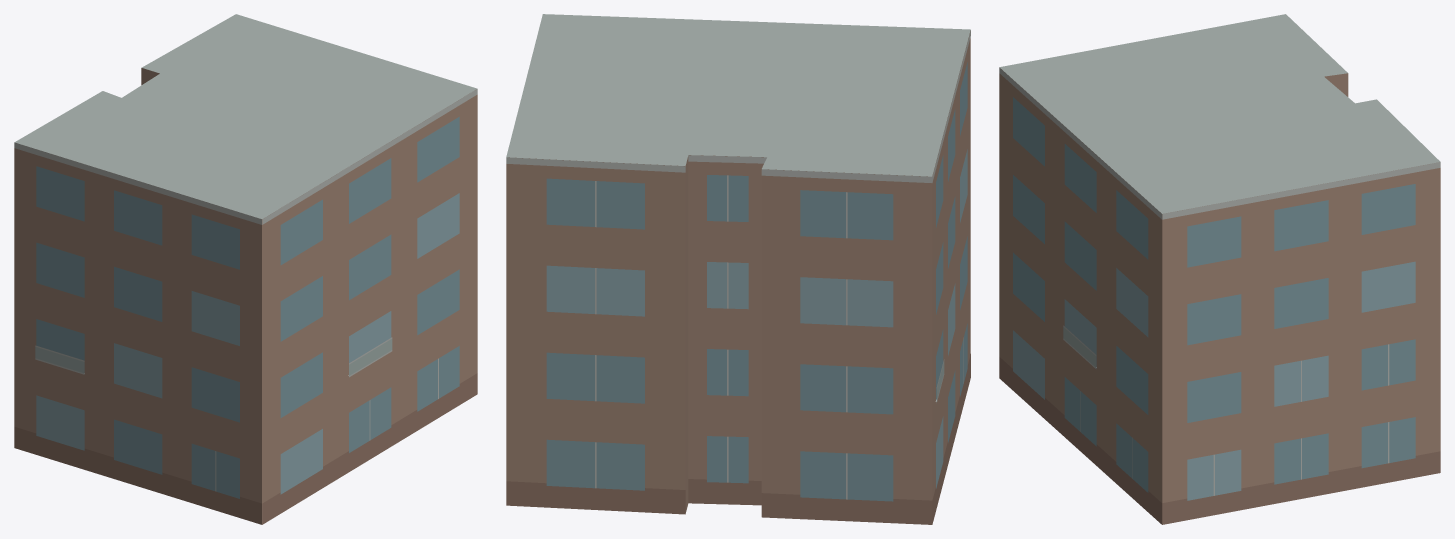
Rendered from survey-upis-32730116.glb.
3 views of the same model, side by side, from view 1: azimuth 30°, elevation 25°; view 2: azimuth 150°, elevation 25°; view 3: azimuth 270°, elevation 25° (orthographic). The views are drawn at different scales.
Parts seen in each view (by area): view 1: survey-upis-32730116.tmp; view 2: survey-upis-32730116.tmp; view 3: survey-upis-32730116.tmp.
Part boxes in pixels (x1,y1,x2,y2): survey-upis-32730116.tmp: [14, 14, 477, 524]; survey-upis-32730116.tmp: [506, 14, 970, 524]; survey-upis-32730116.tmp: [999, 14, 1440, 524].
Bounding box in the file's own units: 17.93 × 13 × 16.73.
